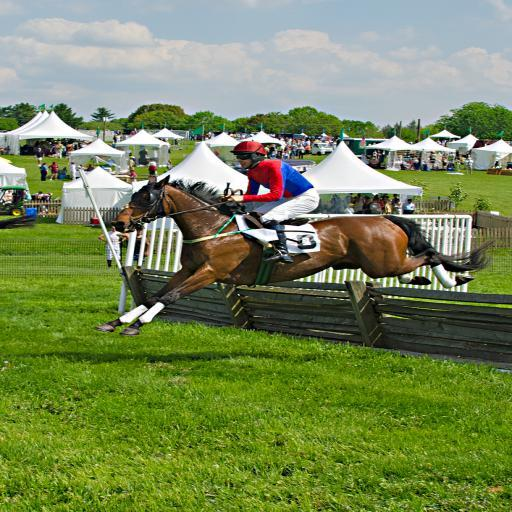Horse: (94, 174, 490, 336)
